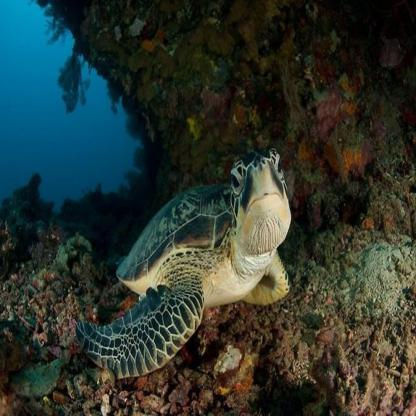turtle: (227, 144, 293, 262)
